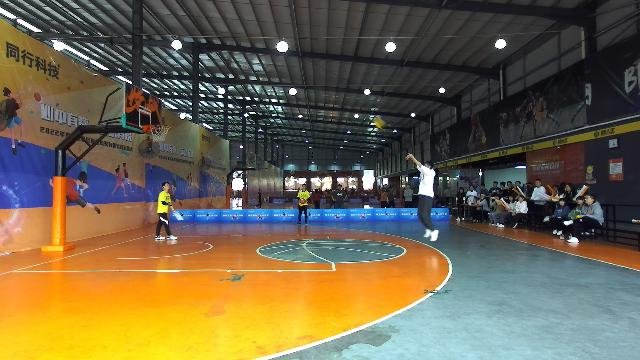ball: (374, 118, 384, 128), (300, 198, 304, 204)
basket: (150, 124, 170, 142)
